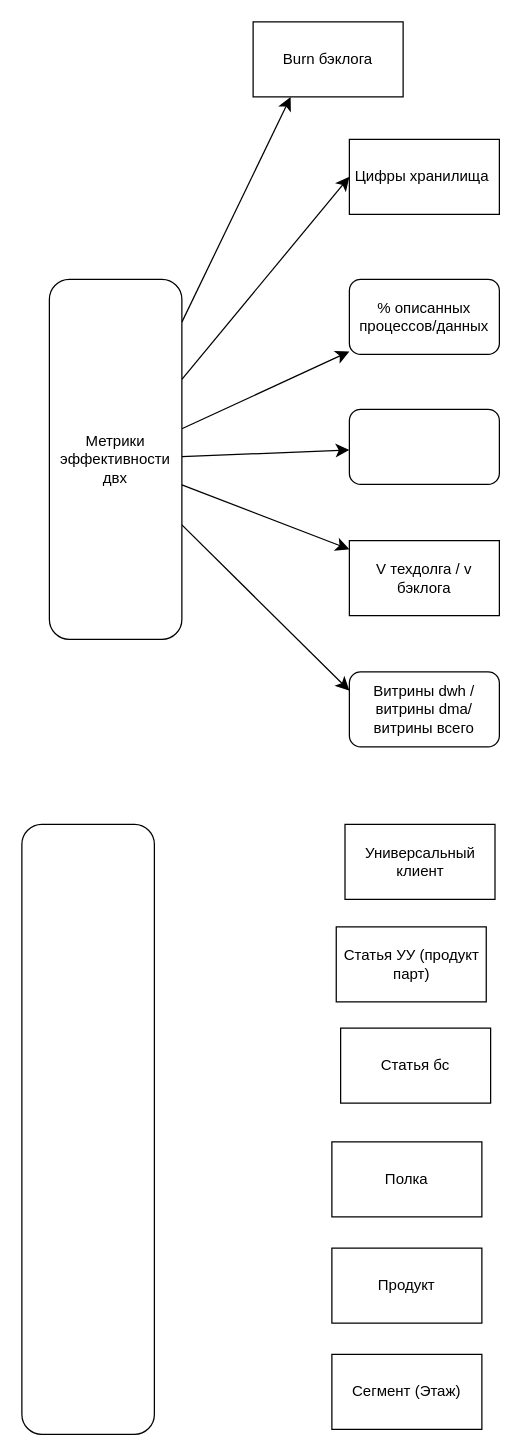
Some shapes in this 521 by 1456 pixel diagram are drawn without their labels. The box of each missing label's shape, as (x1, y1, x2, y2) in pixels:
Виртуальные сущности и раскраски: (21, 823, 154, 1434)
Отчёты на целевом / отчёты всего: (348, 408, 499, 484)
